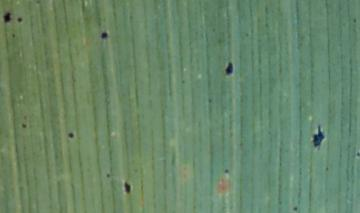tarspot: (312, 125, 326, 148), (224, 61, 234, 77), (2, 11, 12, 24), (123, 180, 132, 194), (67, 130, 75, 139), (100, 31, 109, 39), (222, 166, 230, 174), (10, 32, 17, 40), (104, 172, 112, 178), (21, 122, 27, 129), (293, 205, 298, 213), (17, 17, 23, 23), (356, 151, 360, 160), (352, 17, 357, 24)
